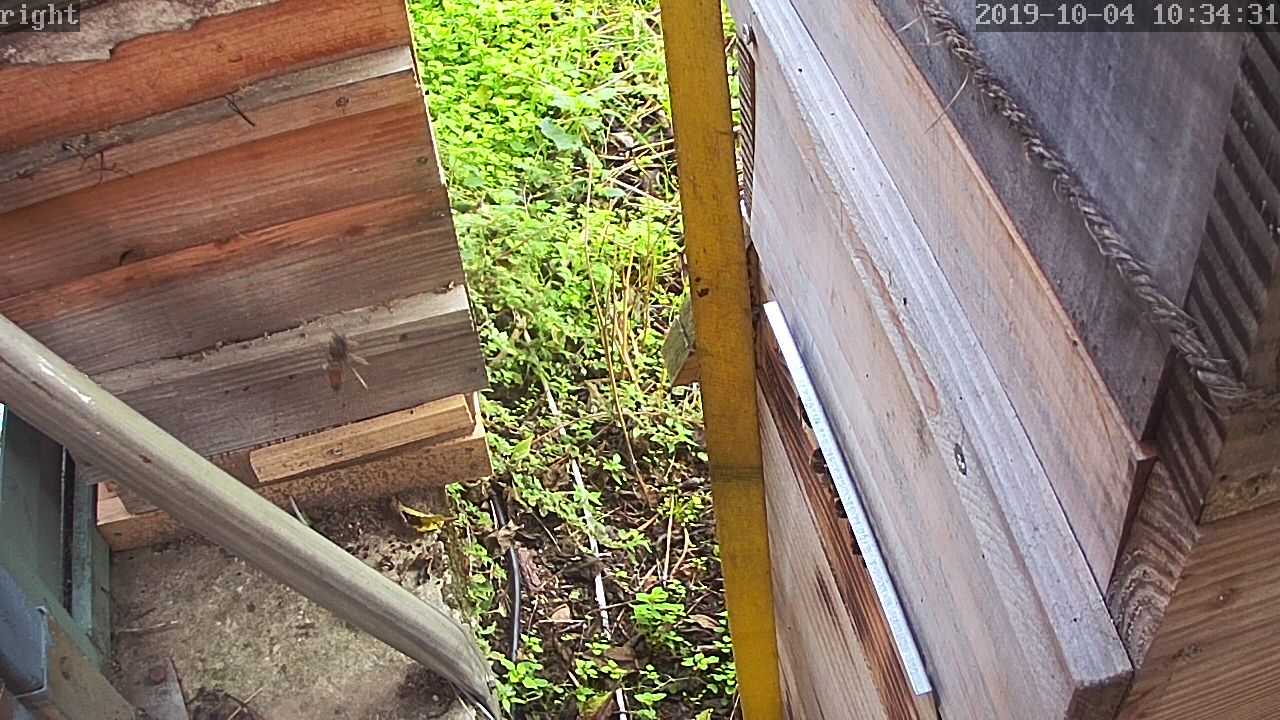bee: (808, 447, 836, 489), (840, 525, 869, 564), (792, 396, 816, 433), (823, 492, 850, 522)
hornet: (319, 327, 360, 399)
